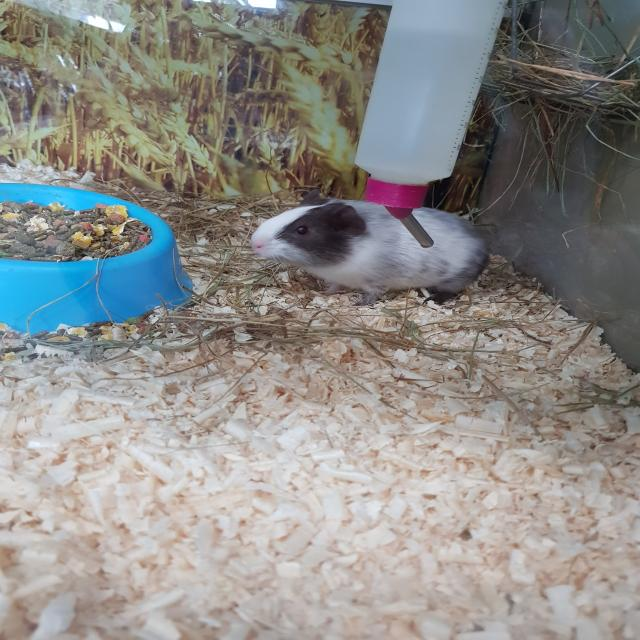guinea pig: (249, 190, 491, 307)
